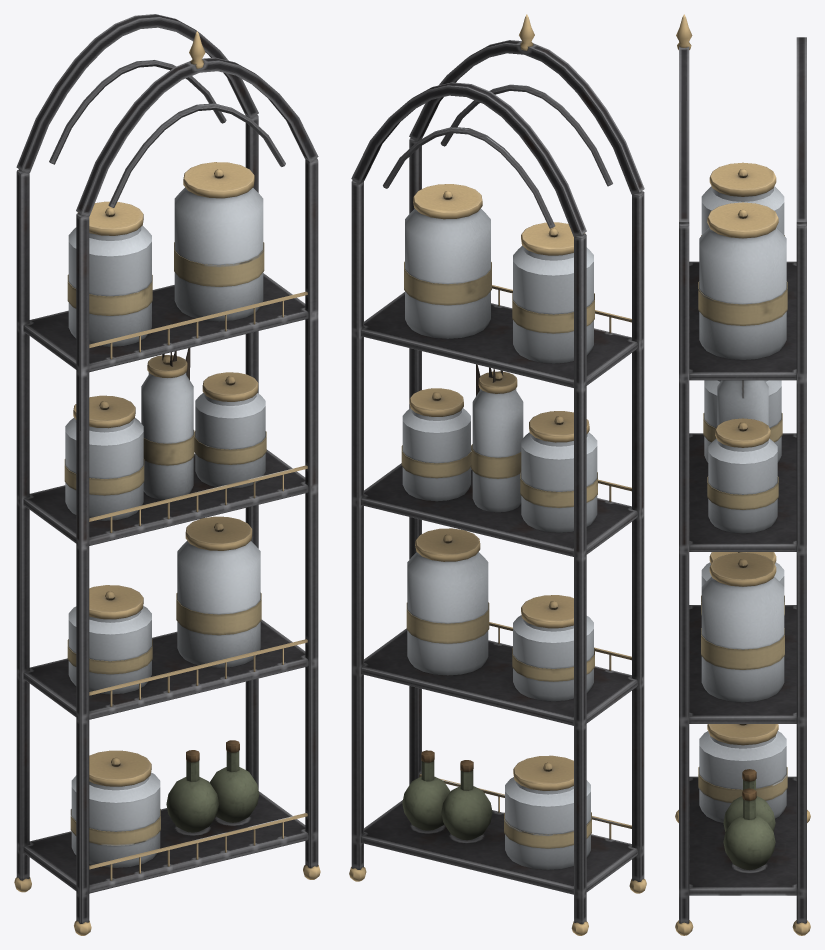
Rendered from OddmentsEtagere.fbx.
The picture shows the model from 3 angles, left to right: view 1: azimuth 30°, elevation 25°; view 2: azimuth 150°, elevation 25°; view 3: azimuth 270°, elevation 25°; orthographic projection. The views are drawn at different scales.
Parts seen in each view (by area): view 1: OddmentsEtagere_Main, OddmentsEtagere_Glass; view 2: OddmentsEtagere_Main, OddmentsEtagere_Glass; view 3: OddmentsEtagere_Main, OddmentsEtagere_Glass.
Boxes of the visible parts, left/top/right/bottom form: OddmentsEtagere_Main: left=14, top=14, right=320, bottom=935; OddmentsEtagere_Glass: left=65, top=187, right=265, bottom=867; OddmentsEtagere_Main: left=349, top=14, right=646, bottom=935; OddmentsEtagere_Glass: left=402, top=208, right=597, bottom=869; OddmentsEtagere_Main: left=675, top=14, right=810, bottom=935; OddmentsEtagere_Glass: left=699, top=186, right=786, bottom=822.
Bounding box in the file's own units: 214 × 731 × 104.
